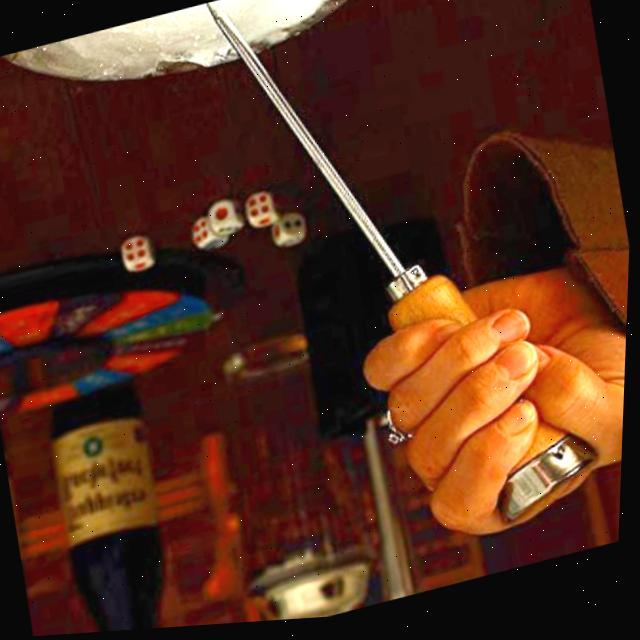ice pick: (185, 0, 620, 585)
